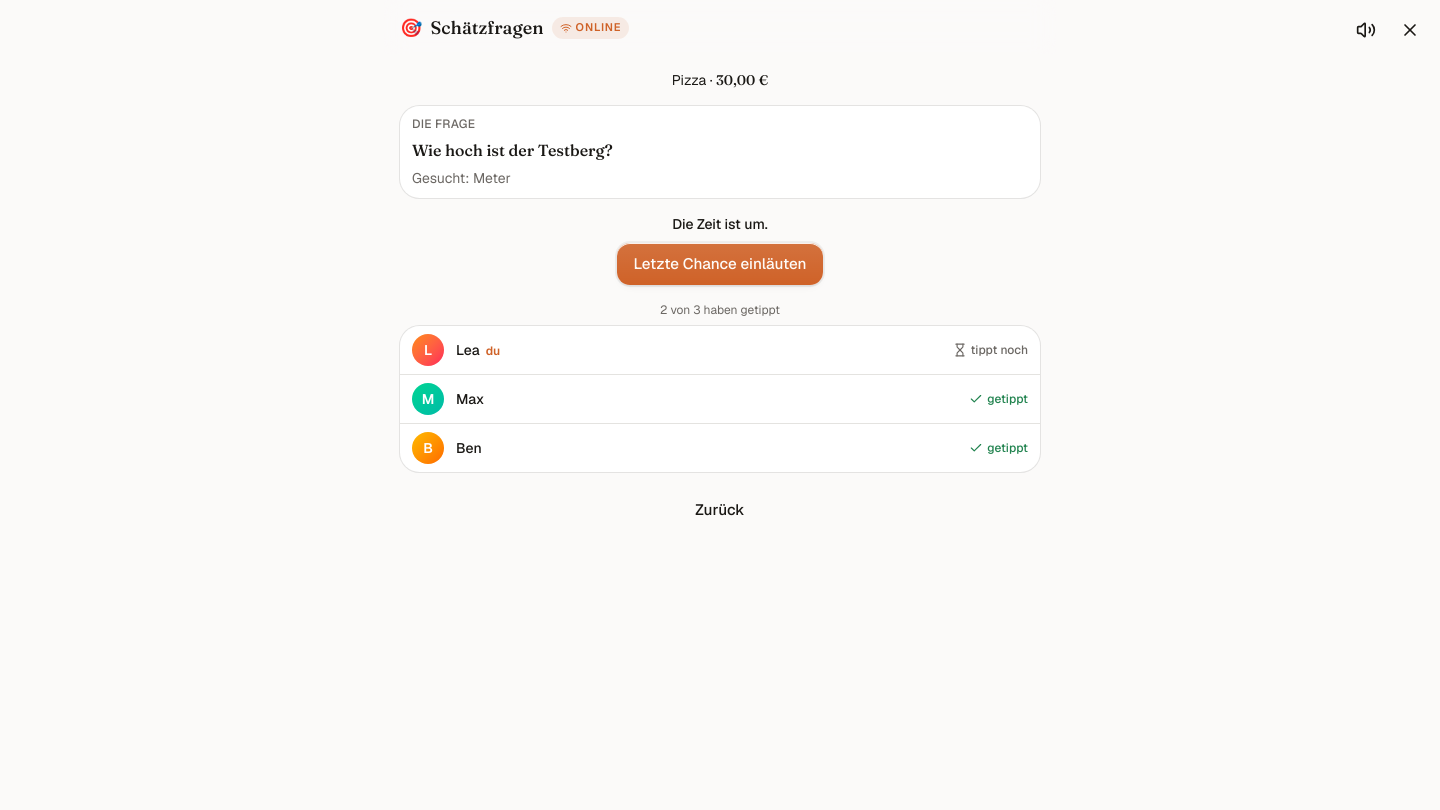
Test: EstimateRoundPageClient › the state table (G.7), one test per row › 11: with fewer absent players than payers they simply pay
Click the button "Letzte Chance einläuten": (720, 264) [616,242,824,286]
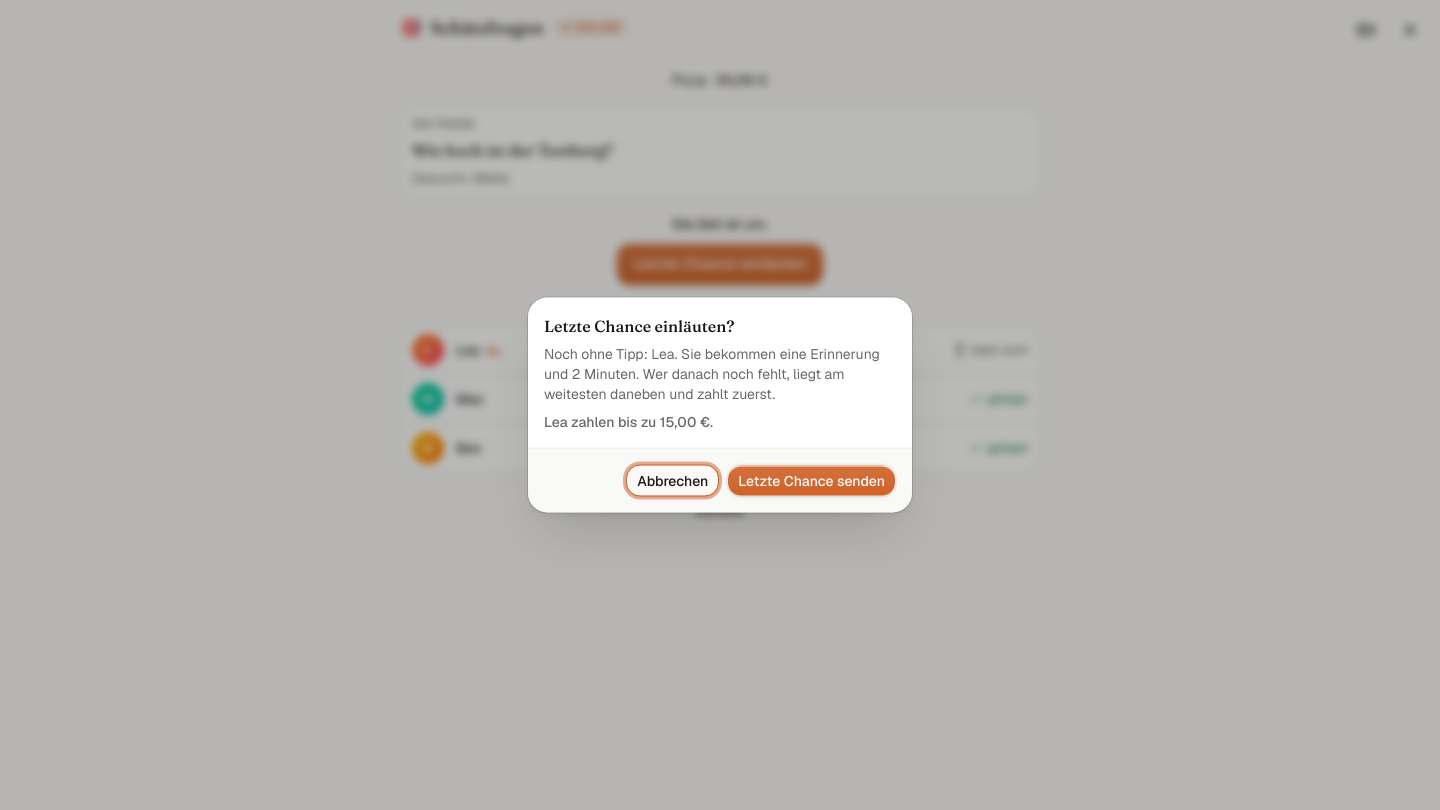
Result: the dialog shows "Lea zahlen bis zu 15,00" at [544,412,713,430]
